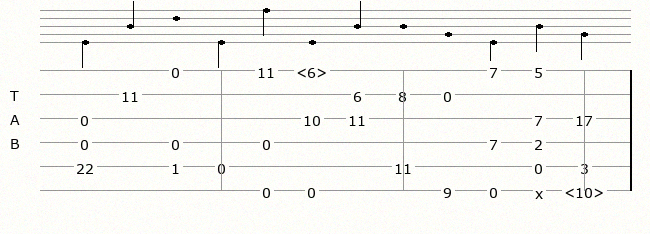0: (80, 135, 93, 149), (80, 111, 93, 125), (171, 135, 184, 149), (171, 63, 184, 77), (217, 159, 230, 173), (262, 135, 275, 149), (262, 183, 275, 197), (307, 183, 320, 197), (443, 87, 456, 101), (489, 183, 502, 197), (534, 159, 547, 173)
1: (171, 159, 184, 173)
10: (303, 111, 325, 125)
11: (121, 87, 143, 101), (257, 63, 279, 77), (348, 111, 370, 125), (394, 159, 416, 173)
17: (575, 111, 597, 125)
2: (534, 135, 547, 149)
22: (76, 159, 98, 173)
3: (580, 159, 593, 173)
5: (534, 63, 547, 77)
6: (353, 87, 366, 101)
7: (489, 135, 502, 149), (489, 63, 502, 77), (534, 111, 547, 125)
8: (398, 87, 411, 101)
9: (443, 183, 456, 197)
harmonic: (564, 183, 608, 197), (296, 63, 331, 77)
x: (535, 184, 547, 196)
